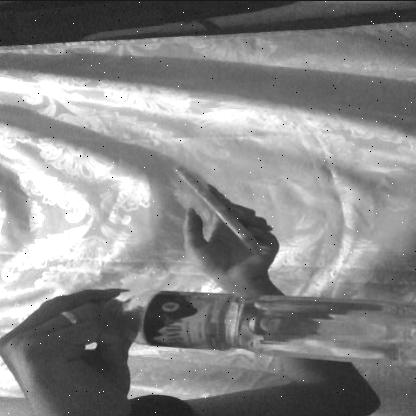Plastic Bottle: (5, 273, 416, 360)
